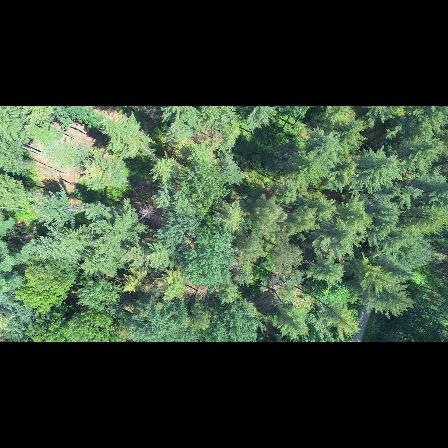Dead: (133, 203, 161, 222)
